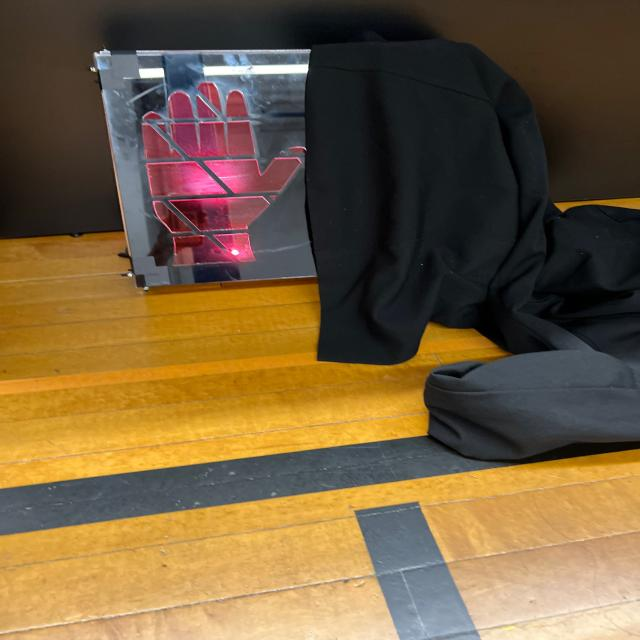stop: (96, 52, 326, 285)
